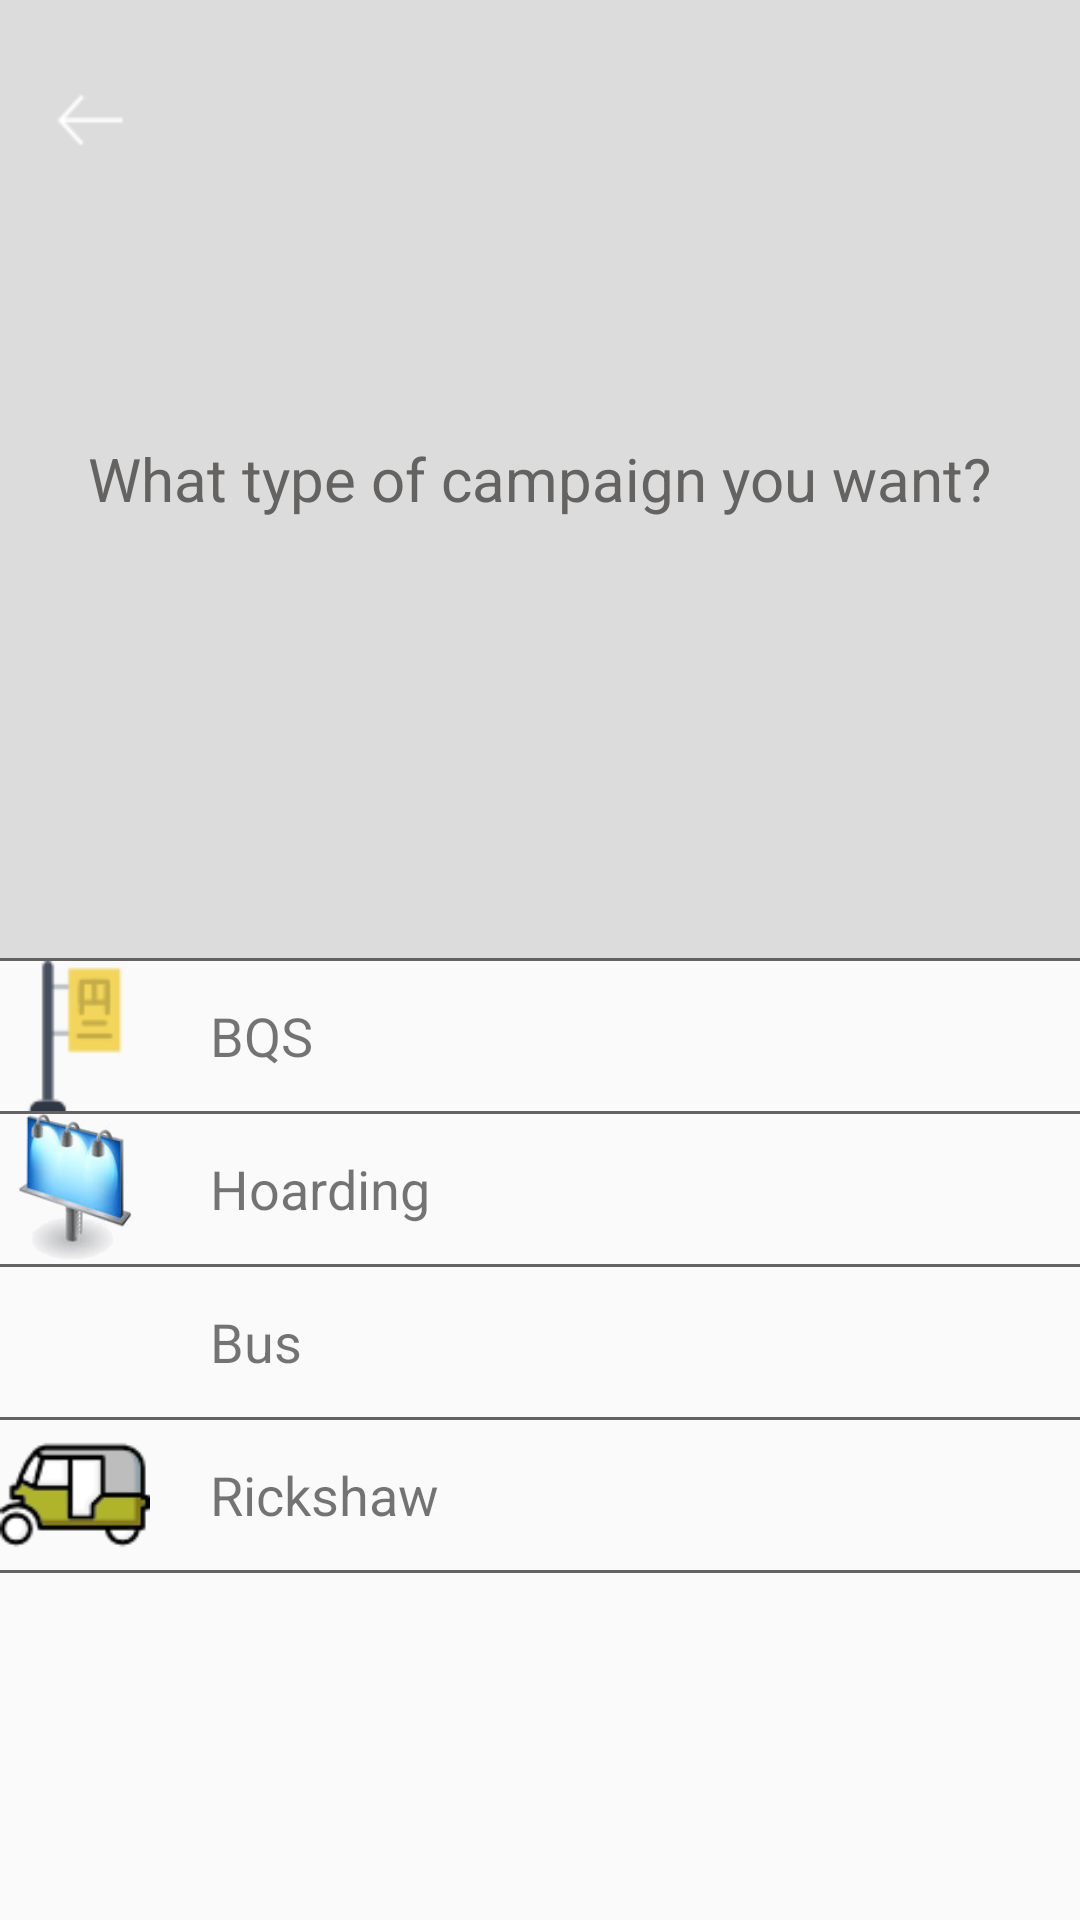

Icon bounding boxes for this 1080 x 1920 phone screenshot, format (x1, y1, x2, y2):
arrowback: (60, 97, 122, 144)
board pin: (19, 1114, 131, 1254)
bqs pin: (28, 961, 122, 1111)
